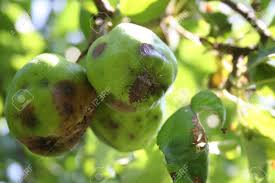damaged_apple: (3, 59, 91, 151), (84, 25, 172, 109)
